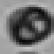correct: (4, 0, 54, 47)
